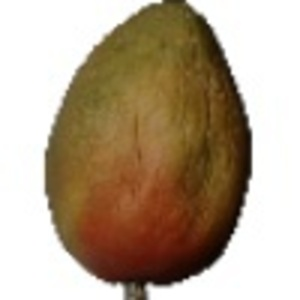mamão: (39, 5, 253, 286)
